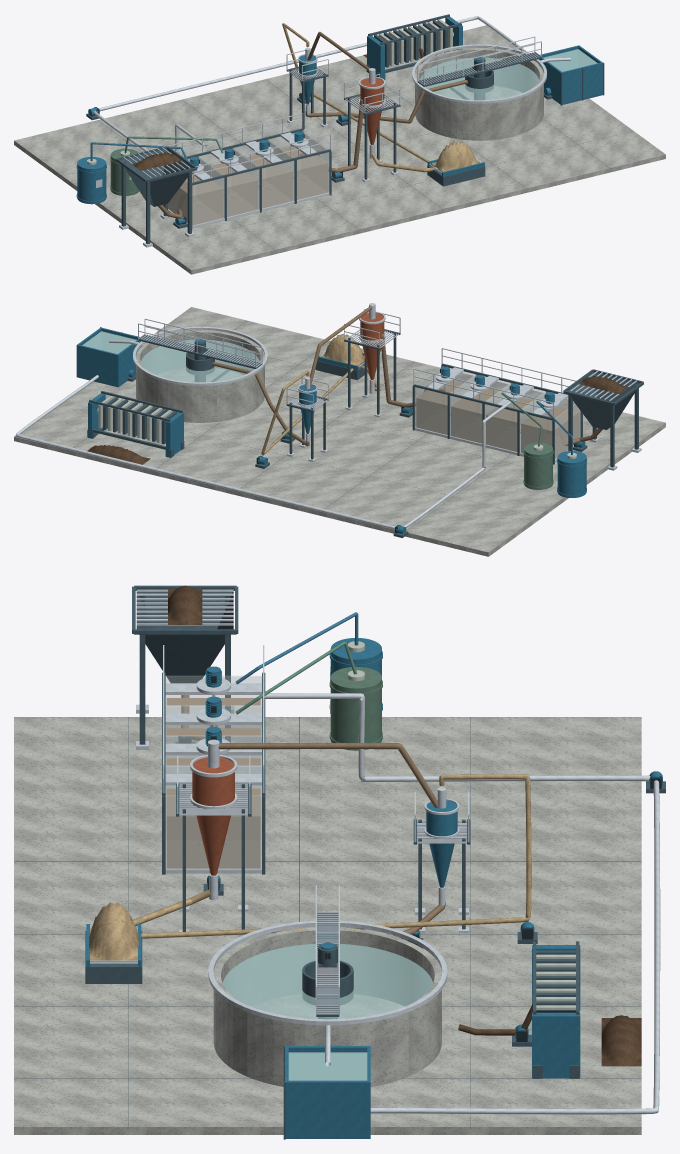
Rendered from sediment.glb.
3 views of the same model, one above another, from view 1: azimuth 30°, elevation 25°; view 2: azimuth 150°, elevation 25°; view 3: azimuth 270°, elevation 25° (orthographic). The views are drawn at different scales.
Parts seen in each view (by area): view 1: site__body_concrete, wash__wall_glass, adv__body_concrete, wash__contents_liquid, hopper__body_steel, adv__surface_water, water__body_paint_blue, pipes__P11_stainless, press__plates_steel, adv__launder_stainless, chem__body_paint_blue, press__plates_pe_tank (+27 smaller); view 2: site__body_concrete, wash__wall_glass, wash__contents_liquid, adv__body_concrete, adv__surface_water, hopper__body_steel, pipes__P11_stainless, water__body_paint_blue, press__plates_pe_tank, wash__details_stainless, press__plates_steel, chem__body_paint_blue (+29 smaller); view 3: site__body_concrete, adv__body_concrete, adv__surface_water, wash__wall_glass, pipes__P11_stainless, water__body_paint_blue, hopper__body_steel, wash__contents_liquid, adv__launder_stainless, press__head_paint_blue, chem__body_paint_green, pipes__P08_sand (+23 smaller).
Part boxes in pixels (x1=…): site__body_concrete: x1=14, y1=25, x2=665, y2=274; wash__wall_glass: x1=163, y1=131, x2=329, y2=225; adv__body_concrete: x1=415, y1=48, x2=543, y2=140; wash__contents_liquid: x1=168, y1=146, x2=328, y2=225; hopper__body_steel: x1=120, y1=148, x2=192, y2=244; adv__surface_water: x1=420, y1=57, x2=538, y2=100; water__body_paint_blue: x1=539, y1=45, x2=602, y2=104; pipes__P11_stainless: x1=93, y1=16, x2=529, y2=153; press__plates_steel: x1=374, y1=20, x2=447, y2=67; adv__launder_stainless: x1=412, y1=44, x2=546, y2=103; chem__body_paint_blue: x1=77, y1=157, x2=106, y2=204; press__plates_pe_tank: x1=378, y1=19, x2=452, y2=66; site__body_concrete: x1=14, y1=307, x2=665, y2=556; wash__wall_glass: x1=415, y1=366, x2=580, y2=459; wash__contents_liquid: x1=416, y1=381, x2=579, y2=458; adv__body_concrete: x1=136, y1=330, x2=264, y2=422; adv__surface_water: x1=141, y1=339, x2=259, y2=382; hopper__body_steel: x1=567, y1=371, x2=640, y2=467; pipes__P11_stainless: x1=15, y1=375, x2=512, y2=529; water__body_paint_blue: x1=76, y1=327, x2=141, y2=387; press__plates_pe_tank: x1=98, y1=396, x2=172, y2=442; wash__details_stainless: x1=413, y1=348, x2=576, y2=416; press__plates_steel: x1=103, y1=397, x2=176, y2=444; chem__body_paint_blue: x1=557, y1=451, x2=586, y2=497; site__body_concrete: x1=14, y1=717, x2=641, y2=1134; adv__body_concrete: x1=213, y1=927, x2=441, y2=1086; adv__surface_water: x1=222, y1=944, x2=432, y2=1019; wash__wall_glass: x1=165, y1=675, x2=261, y2=870; pipes__P11_stainless: x1=262, y1=693, x2=660, y2=1114; water__body_paint_blue: x1=285, y1=1046, x2=370, y2=1138; hopper__body_steel: x1=136, y1=592, x2=233, y2=744; wash__contents_liquid: x1=166, y1=698, x2=260, y2=868; adv__launder_stainless: x1=208, y1=920, x2=447, y2=1025; press__head_paint_blue: x1=532, y1=945, x2=580, y2=1078; chem__body_paint_green: x1=330, y1=666, x2=381, y2=750; pipes__P08_sand: x1=141, y1=774, x2=531, y2=938.
Bounding box in the file's own units: 36.17 × 7.26 × 22.85.
Materials: 16 (13 with a texture image).
